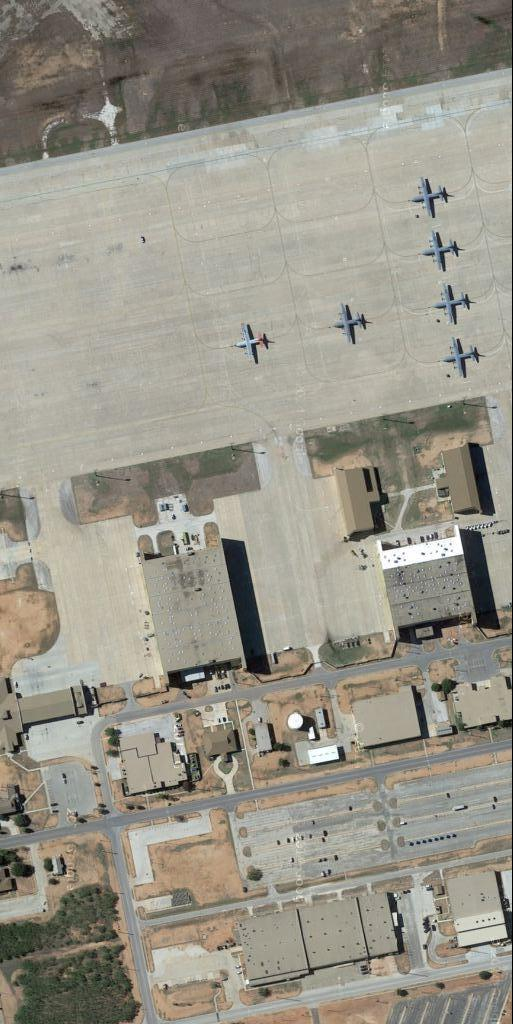C-130: (437, 334, 484, 383), (428, 278, 474, 328), (229, 317, 275, 367), (329, 298, 373, 350), (417, 231, 464, 274), (409, 175, 452, 221)
